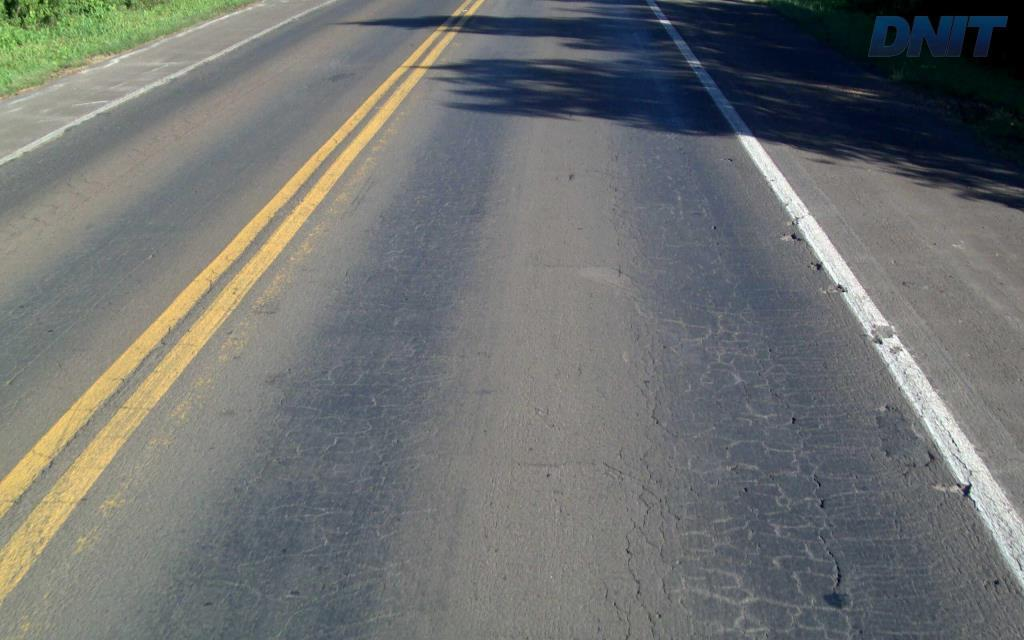pothole: (927, 476, 972, 494), (818, 281, 846, 294), (778, 230, 803, 242), (805, 260, 824, 272)
